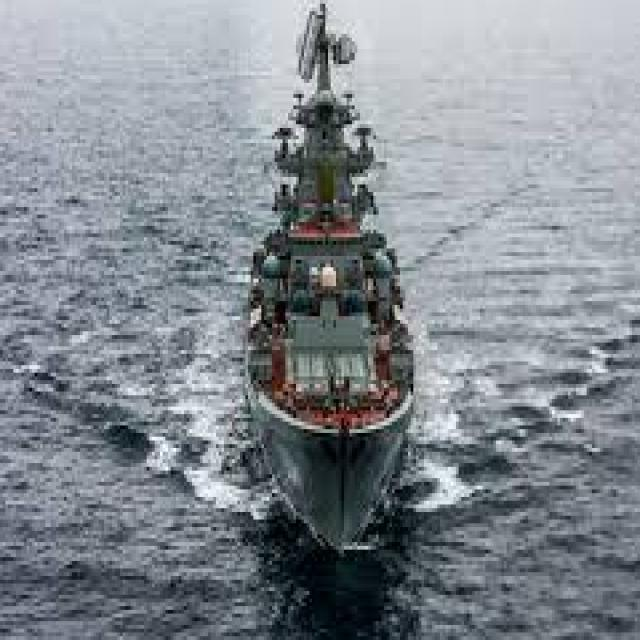navalvessels: (226, 14, 434, 540)
